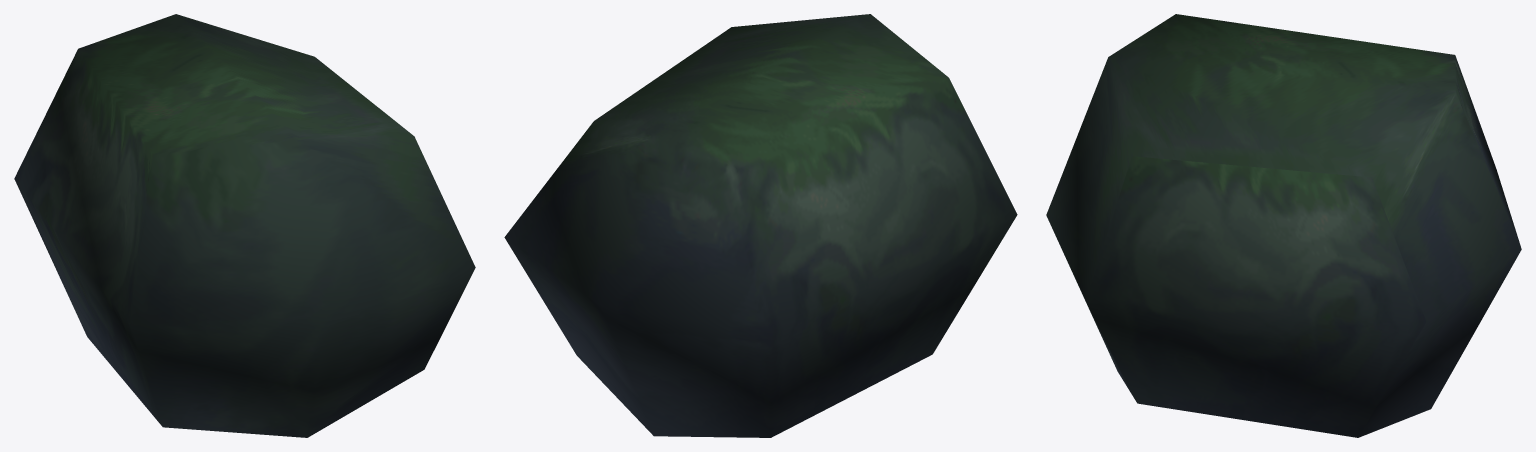
Rendered from stone_yin.FBX.
3 views of the same model, side by side, from view 1: azimuth 30°, elevation 25°; view 2: azimuth 150°, elevation 25°; view 3: azimuth 270°, elevation 25° (orthographic).
Parts seen in each view (by area): view 1: Object37; view 2: Object37; view 3: Object37.
Part boxes in pixels (left/top/right/bottom): Object37: left=14, top=14, right=475, bottom=437; Object37: left=504, top=14, right=1017, bottom=437; Object37: left=1046, top=14, right=1521, bottom=437.
Bounding box in the file's own units: 121 × 134 × 101.
